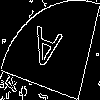A: (25, 24, 63, 80)
